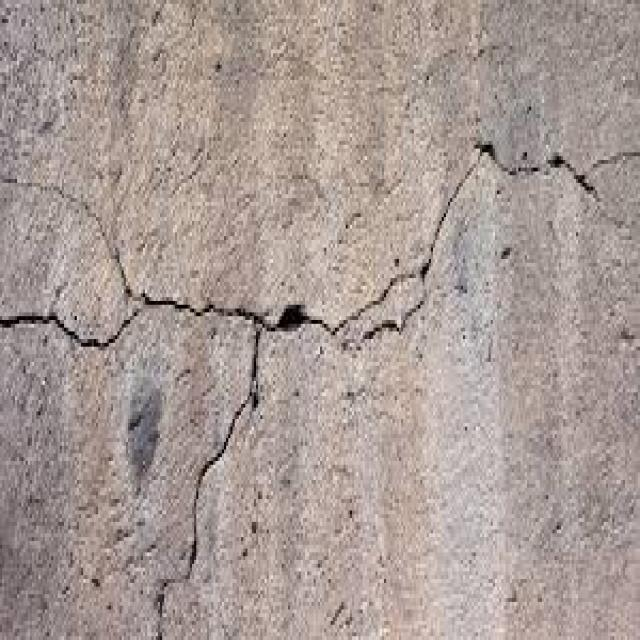Crack: (256, 133, 638, 343), (156, 320, 256, 636), (0, 168, 141, 301), (0, 293, 256, 347)
